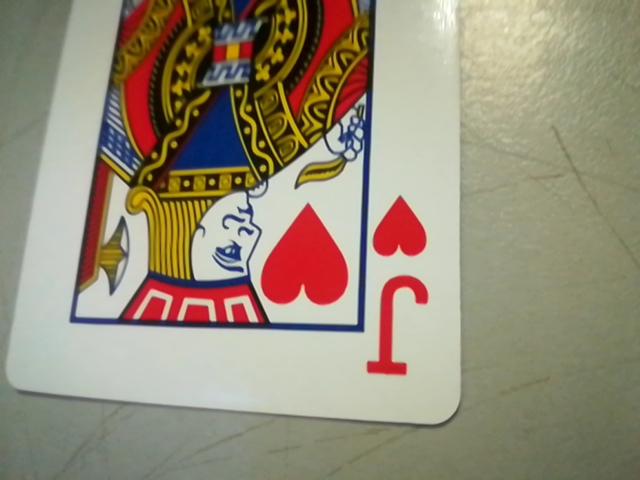hx j: (356, 193, 444, 383)
